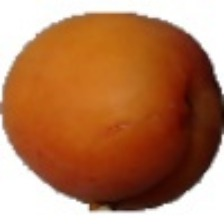apricot: (30, 18, 217, 166)
